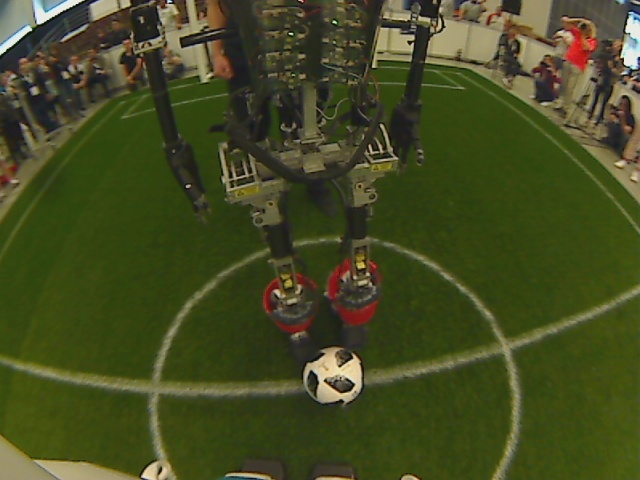ball: (298, 346, 367, 409)
